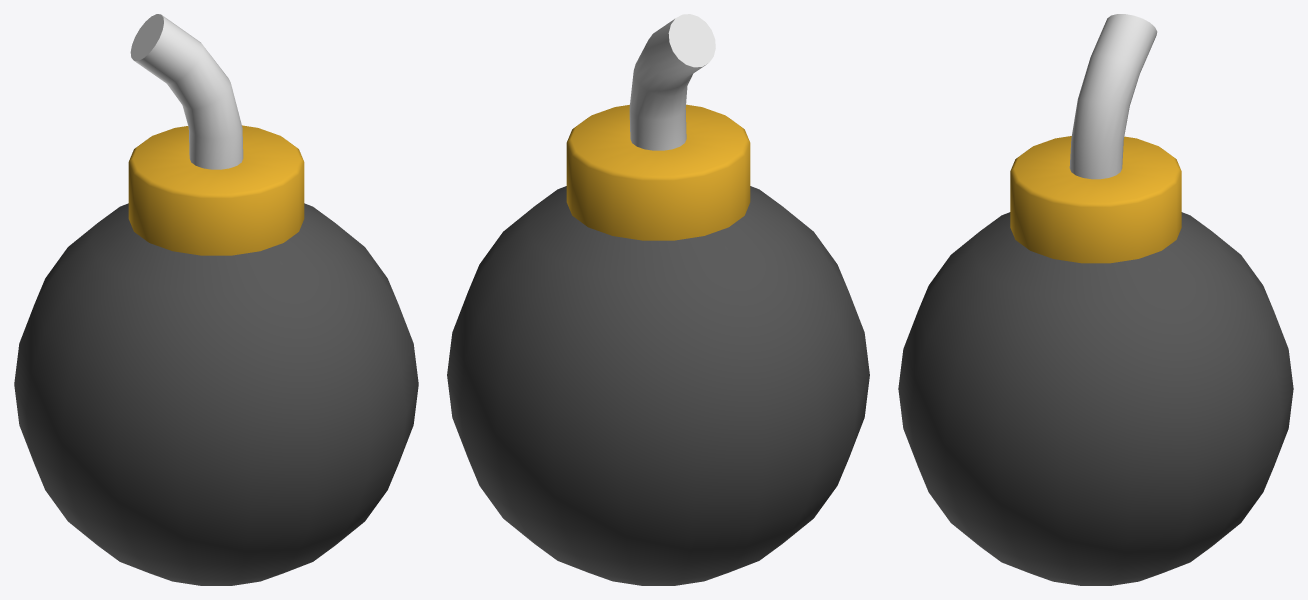
Rendered from bomb.fbx.
3 views of the same model, side by side, from view 1: azimuth 30°, elevation 25°; view 2: azimuth 150°, elevation 25°; view 3: azimuth 270°, elevation 25° (orthographic). The views are drawn at different scales.
Visible parts, largest first — view 1: bomb; view 2: bomb; view 3: bomb.
Part boxes in pixels (box(x1,y1,x2,y2)): bomb: box(14, 14, 418, 585); bomb: box(447, 14, 869, 585); bomb: box(898, 14, 1293, 585).
Bounding box in the file's own units: 197 × 299 × 200.
